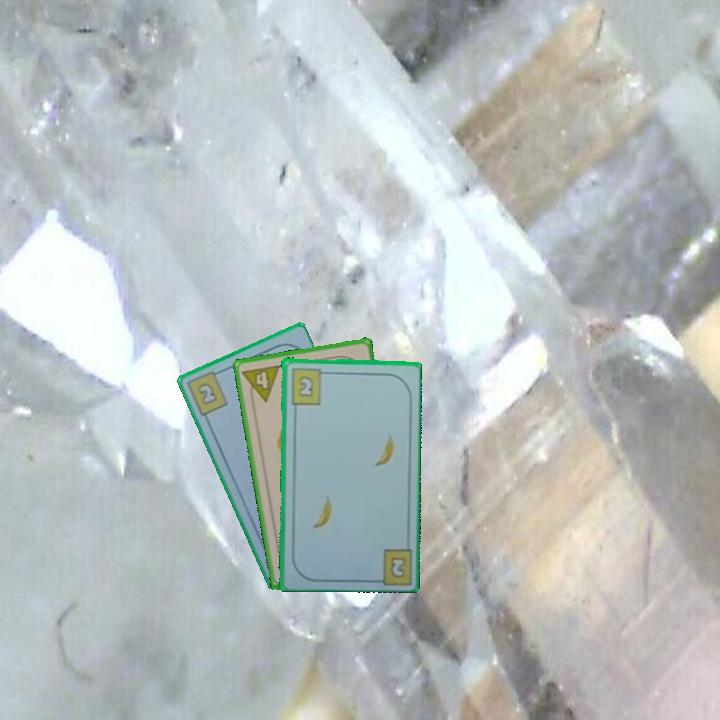2b: (183, 366, 230, 419), (287, 365, 330, 407), (387, 553, 408, 581)
4p: (239, 361, 283, 407)
